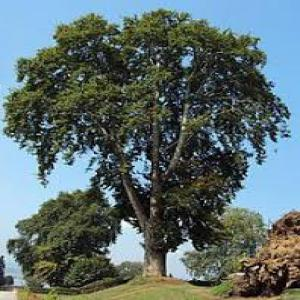Tree: (1, 6, 288, 275)
